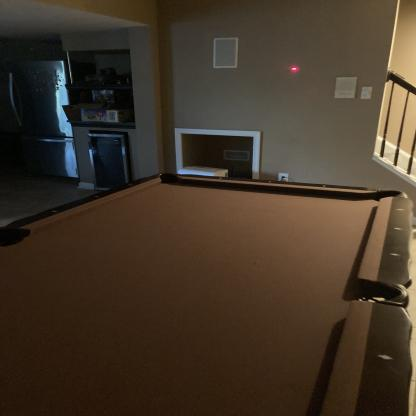target: (290, 65, 304, 74)
